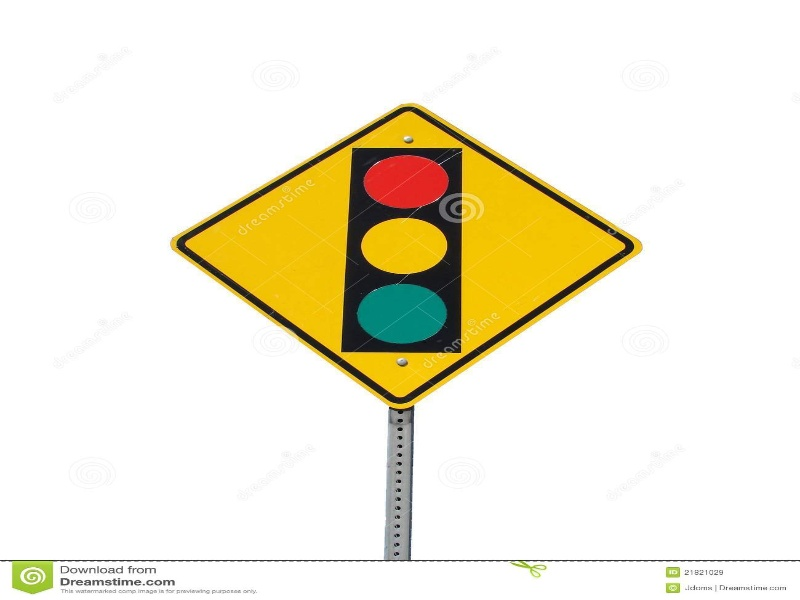traffic signal sign: (166, 100, 647, 413)
